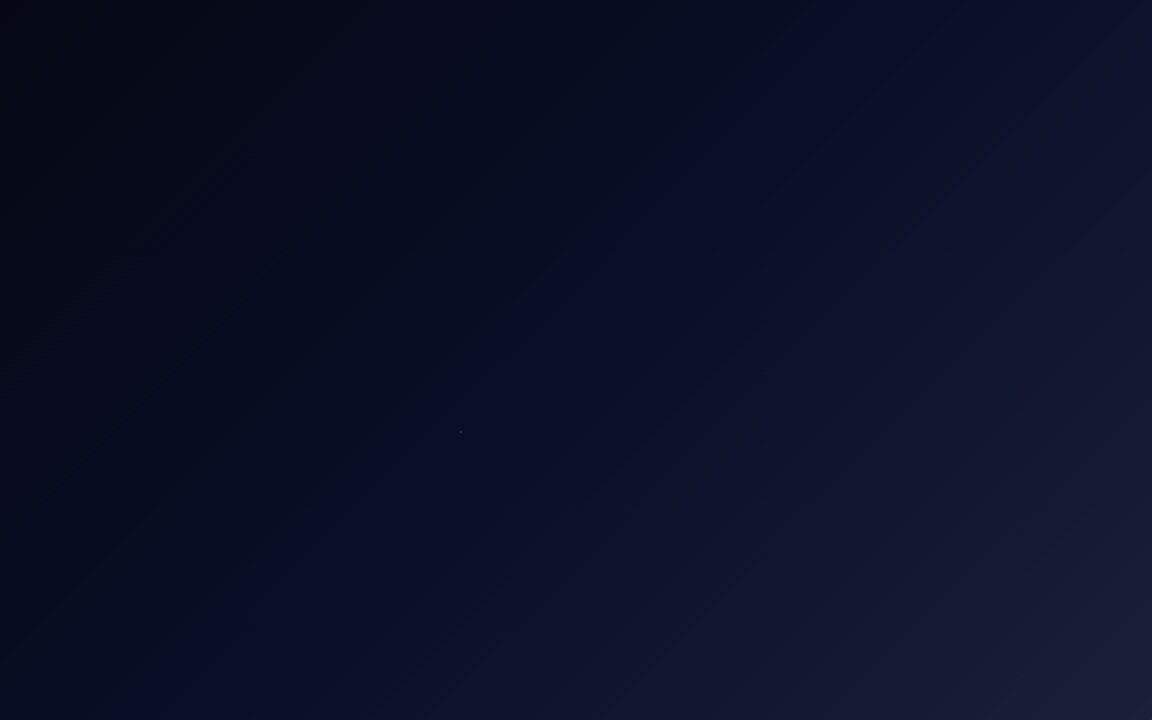
InventoryPanel › Filter Functionality › should filter to show only diggers
This screenshot has width=1152, height=720.
Press i
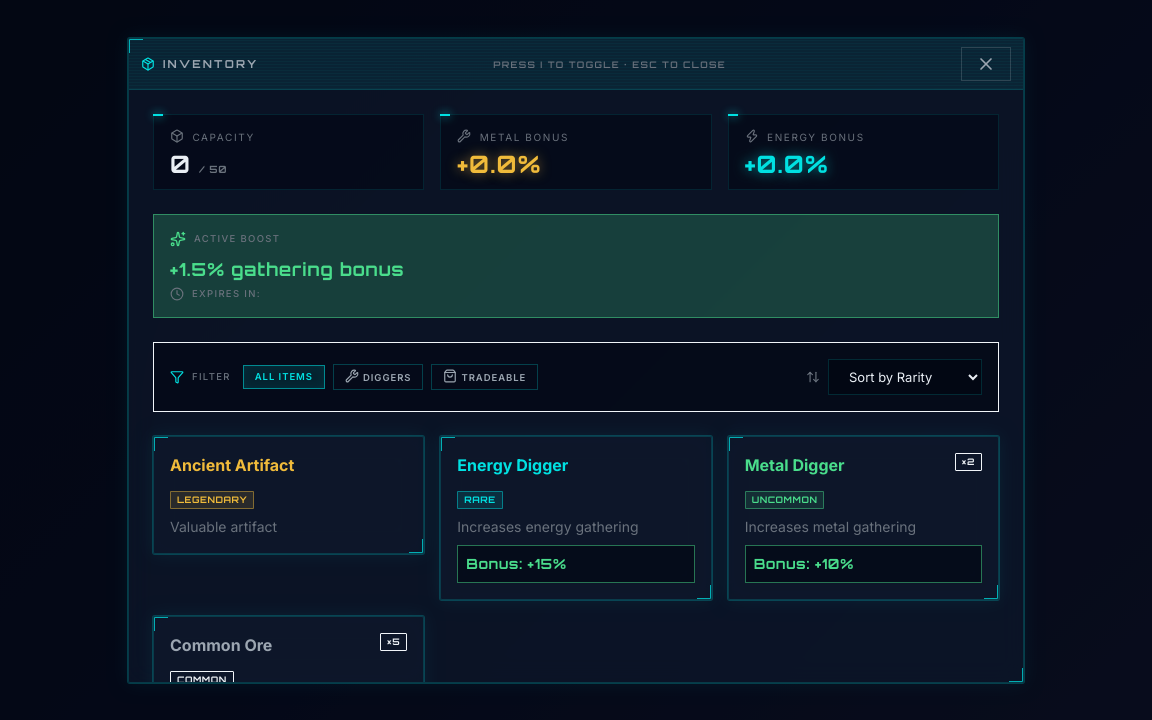
Expected: the heading "Metal Digger" is shown, [745, 453, 845, 477]
# Click diggers filter button
Click the button "Diggers" at (378, 377), box [333, 364, 423, 390]
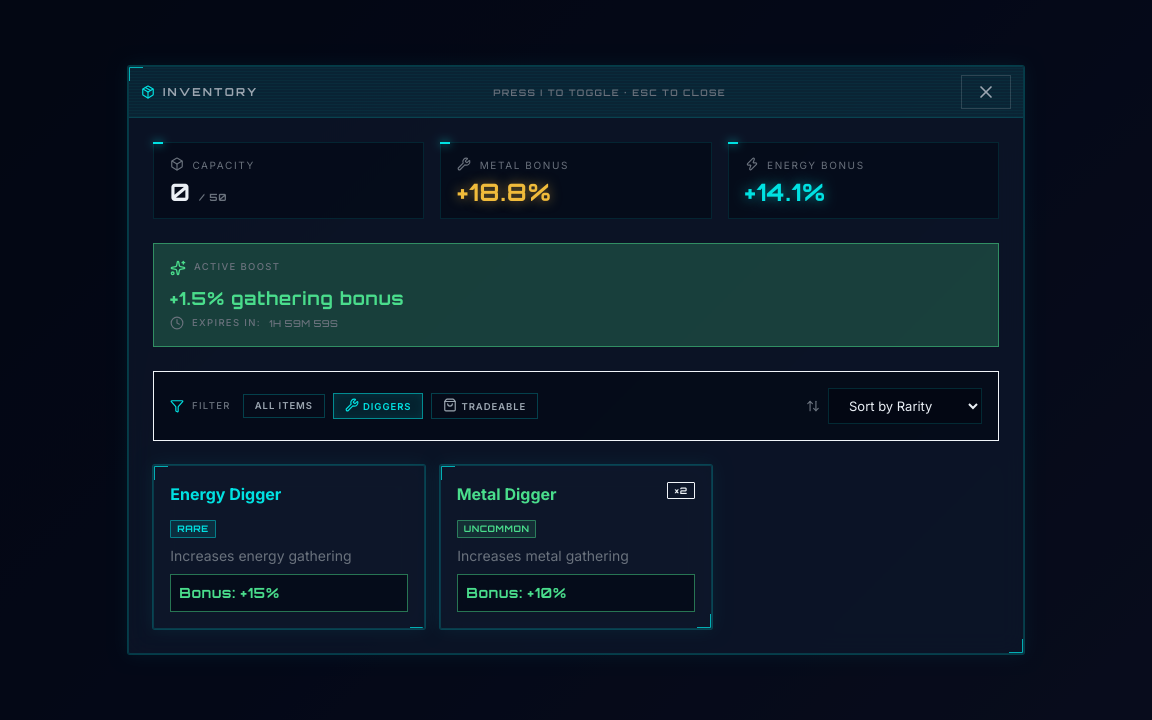
Expected: the heading "Metal Digger" is shown, [457, 482, 557, 506]
Expected: the heading "Energy Digger" is shown, [170, 482, 281, 506]
Expected: the heading "Ancient Artifact" is gone
